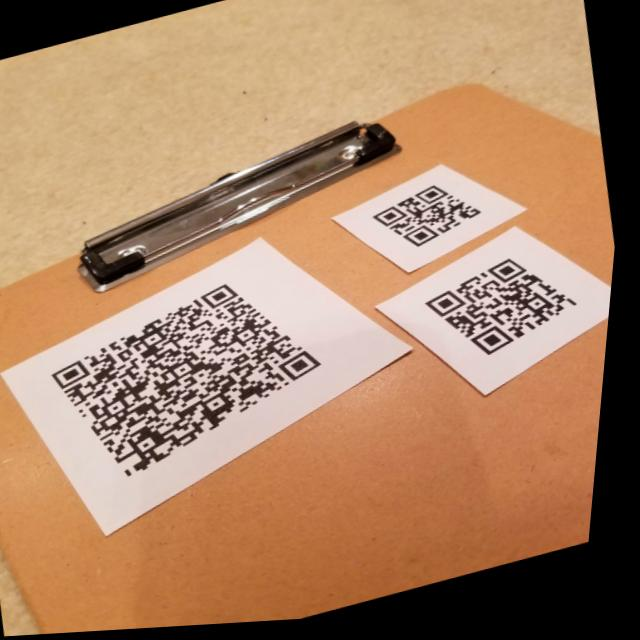QR_CODE: (28, 253, 362, 505), (411, 238, 614, 385), (357, 165, 503, 274)
